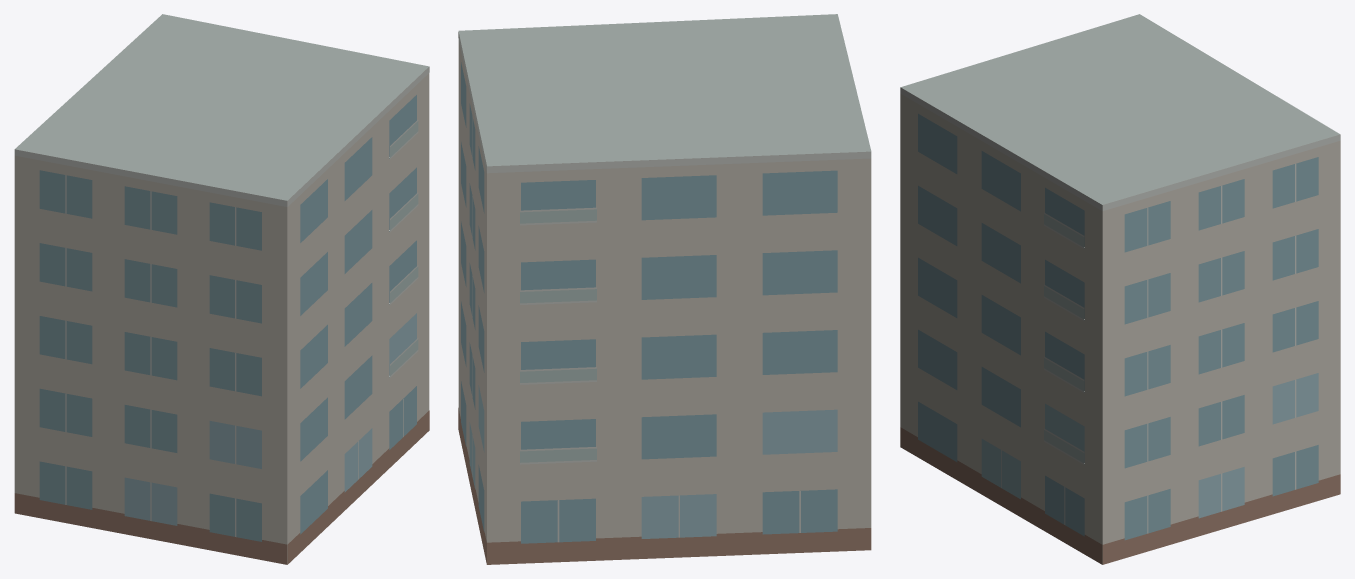
The model's file is survey-upis-33012470.glb.
3 renders of one model, left to right at view 1: azimuth 30°, elevation 25°; view 2: azimuth 150°, elevation 25°; view 3: azimuth 270°, elevation 25°, orthographic. The views are drawn at different scales.
Visible parts, largest first — view 1: survey-upis-33012470.tmp; view 2: survey-upis-33012470.tmp; view 3: survey-upis-33012470.tmp.
Boxes of the visible parts, box(x1,y1,x2,y2) form: survey-upis-33012470.tmp: box(14, 14, 429, 564); survey-upis-33012470.tmp: box(458, 14, 871, 564); survey-upis-33012470.tmp: box(900, 14, 1340, 564).
Bounding box in the file's own units: 16.06 × 14.1 × 15.64.
